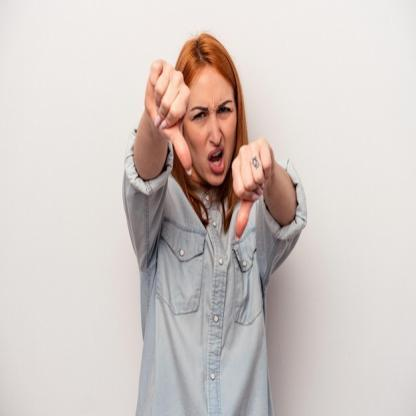thumb_down: (144, 53, 196, 178), (230, 134, 276, 244)
